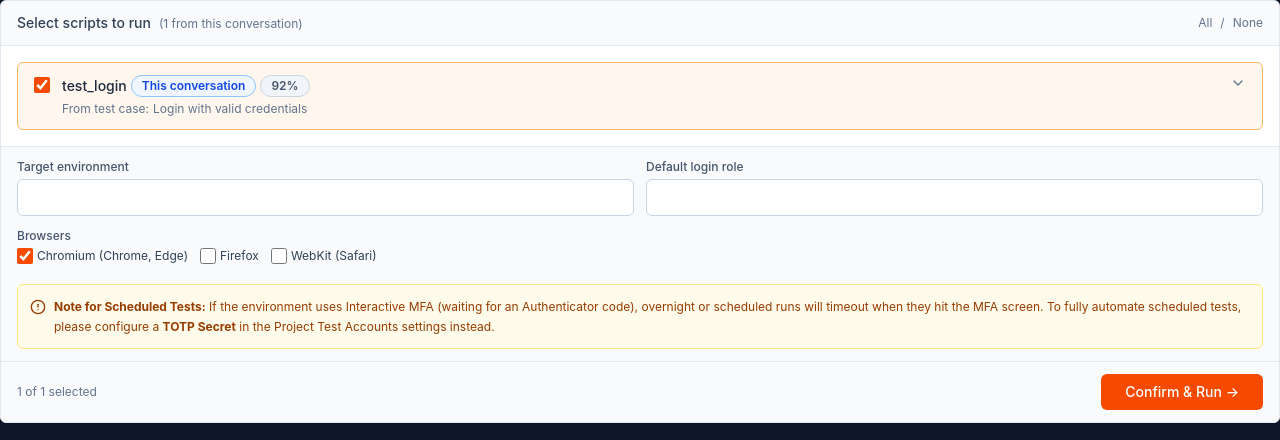
it: JackInputSelection › Confirm › disables Run when no browser is selected
Click the checkbox labelled "Chromium (Chrome, Edge)": click(25, 256) [17,248,33,264]
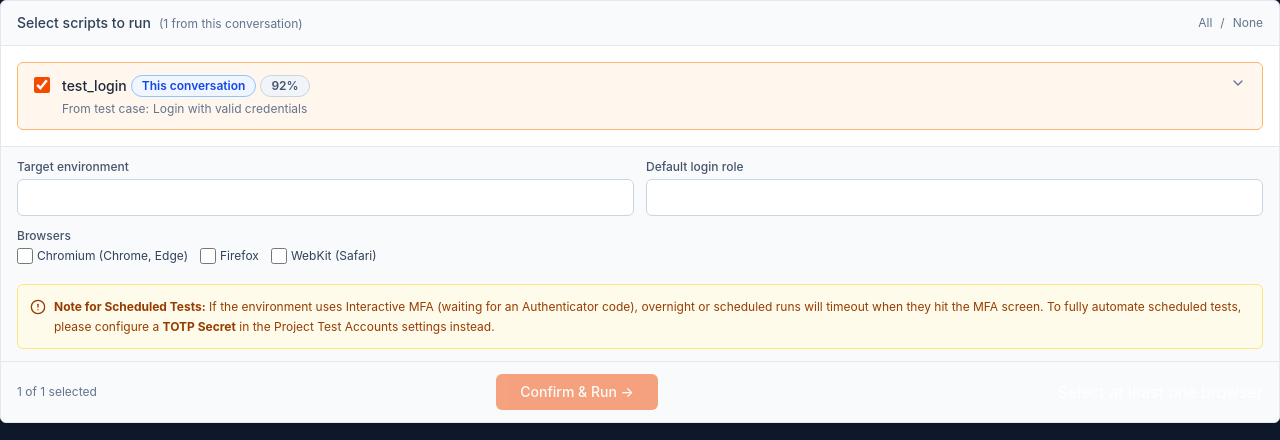
Now the button "Confirm & Run →" is disabled, box [496,374,658,410]
